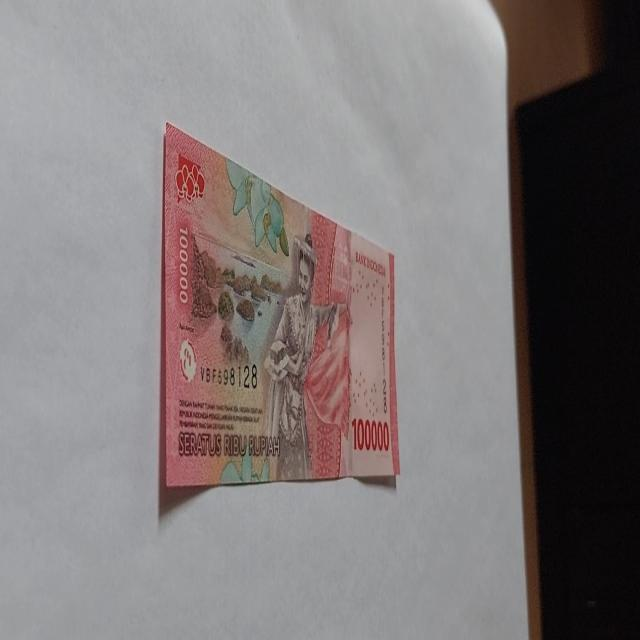seratus ribu rupiah: (159, 120, 401, 494), (260, 232, 352, 481)
